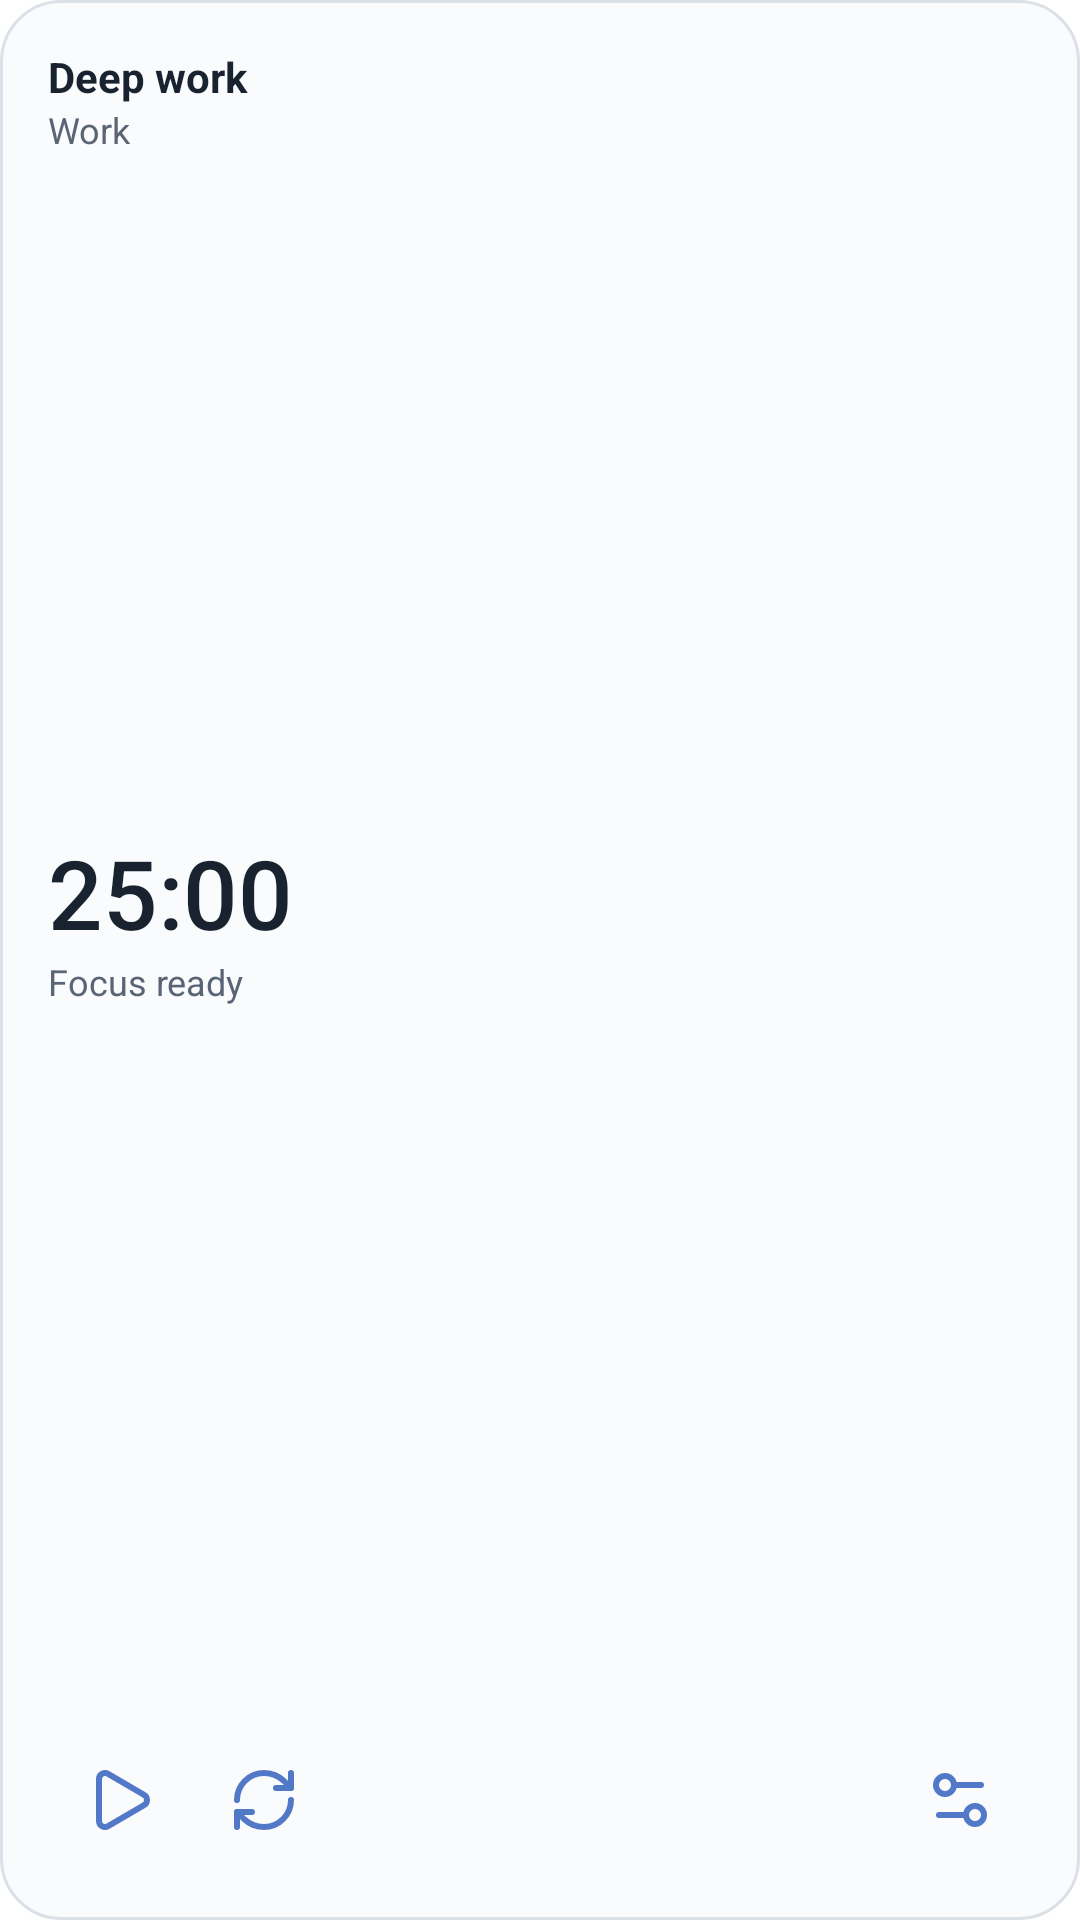

Named icons in this screenshot (1080w x 1920h) and their centers, [x,y]:
Configure widget: [960,1800]
Refresh widget: [264,1800]
Start session: [123,1800]
